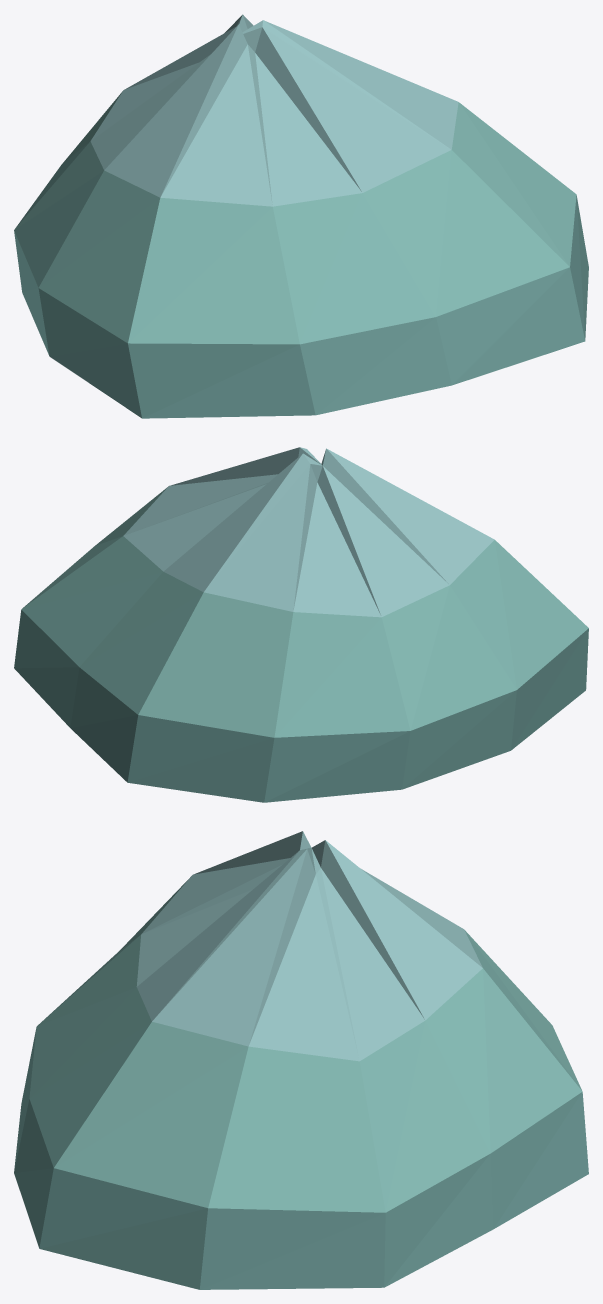
The model's file is Collineline.fbx.
3 views of the same model, one above another, from view 1: azimuth 30°, elevation 25°; view 2: azimuth 150°, elevation 25°; view 3: azimuth 270°, elevation 25° (orthographic). The views are drawn at different scales.
Visible parts, largest first — view 1: Collineline; view 2: Collineline; view 3: Collineline.
Boxes of the visible parts, box(x1,y1,x2,y2) form: Collineline: box(14, 14, 588, 418); Collineline: box(14, 447, 588, 802); Collineline: box(14, 831, 588, 1289).
Size of the model in its own units: 199 by 106 by 183.
Materials: 1 (1 with a texture image).
